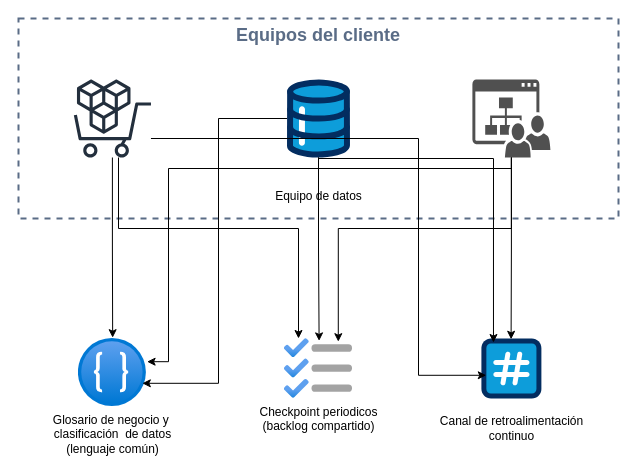
This 636x473 diagram has some shape labels left out. Here are the shapes that lost their labels. From the top down, the centre of each, then its label:
At point (112, 118): "Equipo de Marketing".
At point (511, 118): "Equipo de operaciones".
